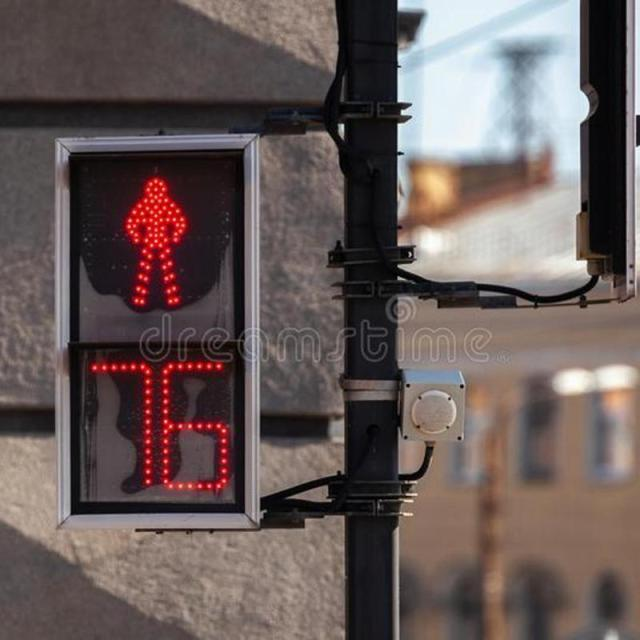red-crossing: (61, 143, 250, 335)
